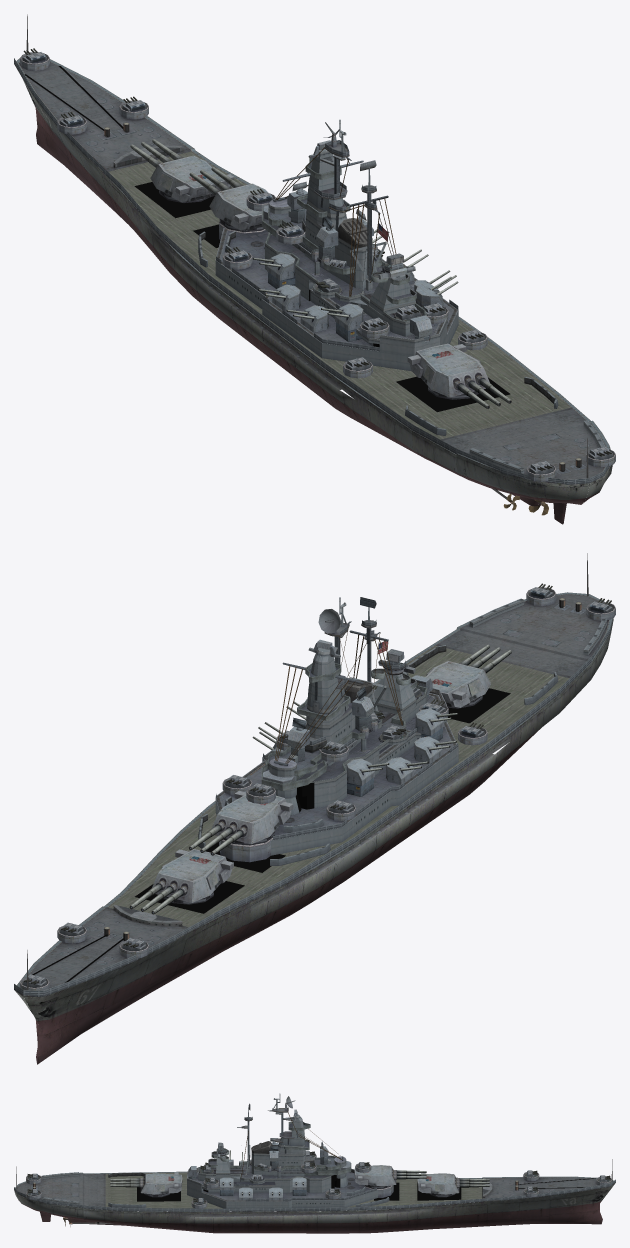
Rendered from fightWarship.glb.
3 renders of one model, top to bottom at view 1: azimuth 30°, elevation 25°; view 2: azimuth 150°, elevation 25°; view 3: azimuth 270°, elevation 25°, orthographic. The views are drawn at different scales.
Visible parts, largest first — view 1: objpolySurface7; view 2: objpolySurface7; view 3: objpolySurface7.
Boxes of the visible parts, x1,y1,x2,y2 form: objpolySurface7: (14,14,615,524); objpolySurface7: (14,553,615,1064); objpolySurface7: (14,1093,615,1233).
Size of the model in its own units: 14.71 by 21.39 by 88.29.
Materials: 21 (17 with a texture image).
